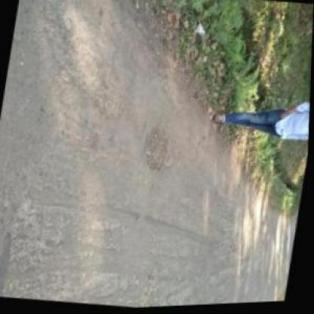Hueco: (141, 127, 173, 176)
